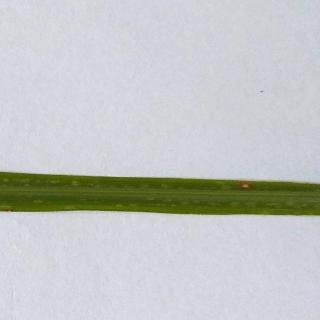Blast: (226, 174, 270, 201)
